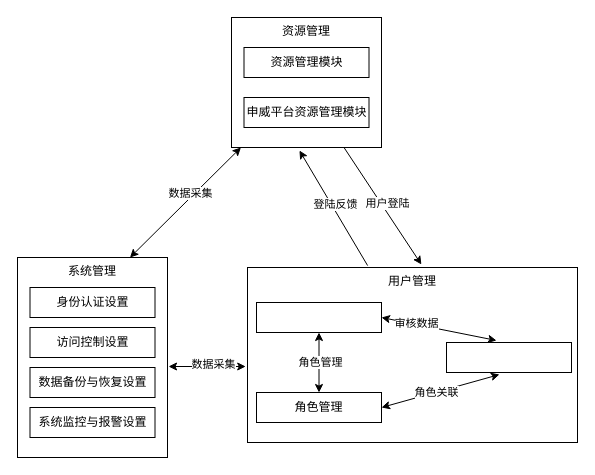
The diagram is 595 pixels wide and 475 high, and some of its shapes have lost their labels. Here are the shapes that lost their labels. From the top down, the centre of each, then its label:
the point at 319,317: 用户列表
the point at 509,357: 用户审核
